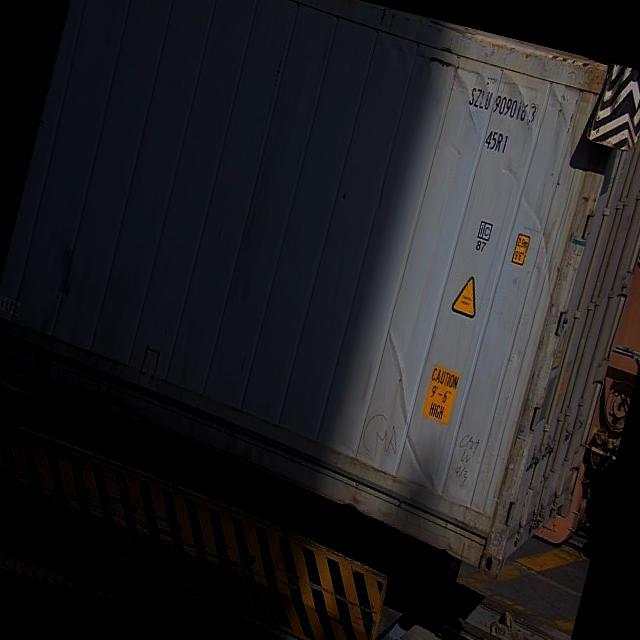rust: (408, 37, 487, 92)
